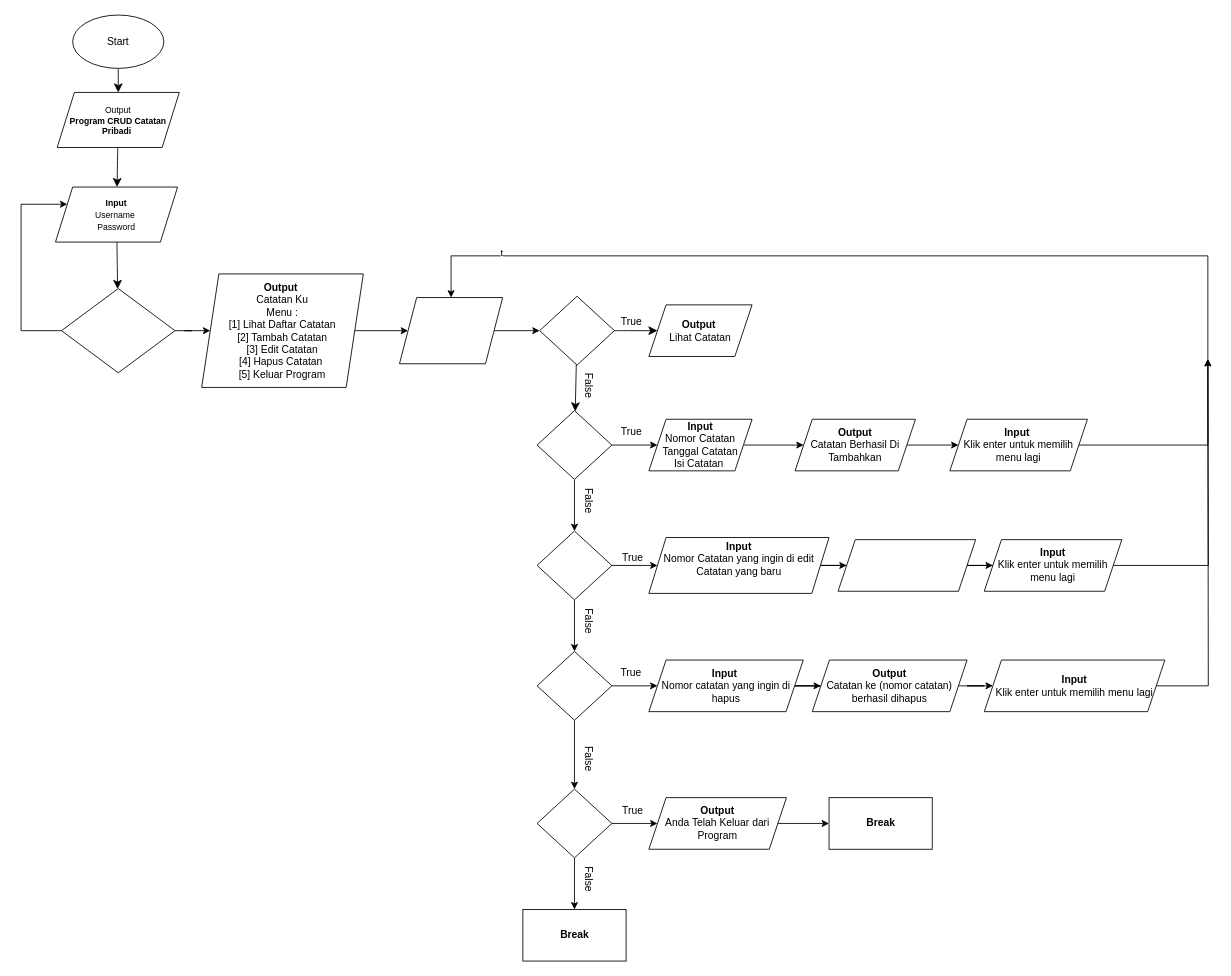
Image size: 1231x976. Some labels were removed from this diagram. Each missing label, with the centre of its shape:
Input Masukkan pilihan: (451,330)
Output Catatan berhasil di edit: (906,565)
Pilihan = 1: (576,330)
Pilihan = 2: (574,444)
Pilihan = 3: (574,565)
Pilihan = 4: (574,685)
Pilihan = 5: (574,823)
username and password "true": (118,330)
